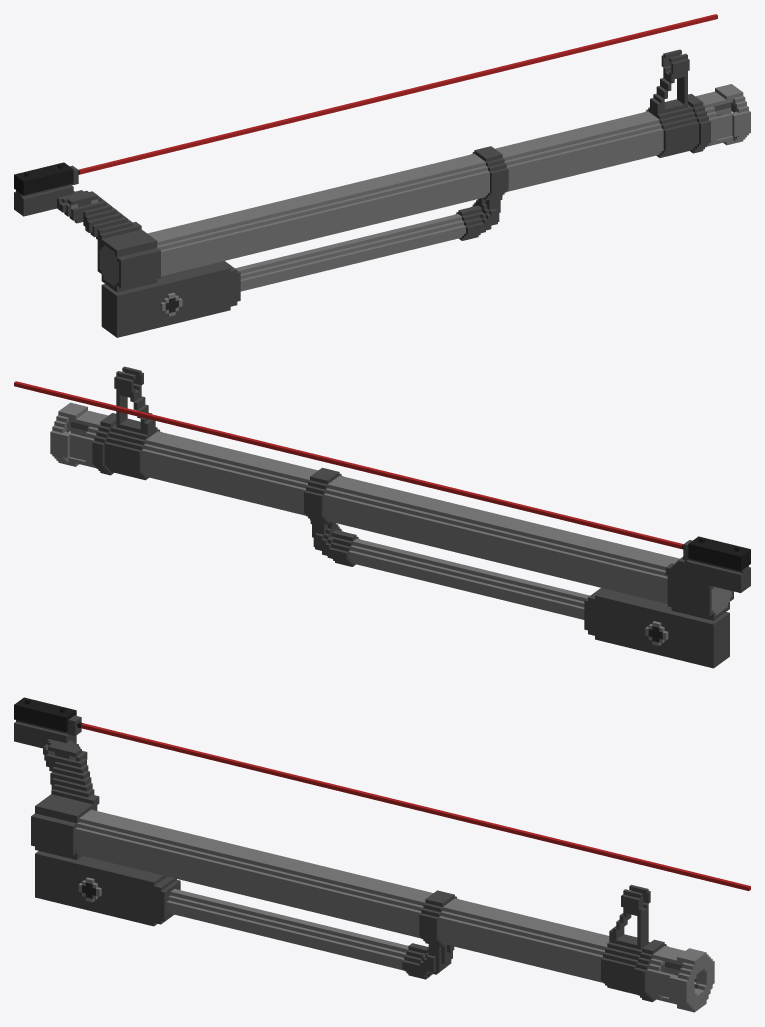
Rendered from pkm-1-1.obj.
3 views of the same model, one above another, from view 1: azimuth 30°, elevation 25°; view 2: azimuth 150°, elevation 25°; view 3: azimuth 330°, elevation 25° (orthographic). The views are drawn at different scales.
Size of the model in its own units: 20.9 by 4.2 by 2.7.
Materials: 1 (1 with a texture image).
